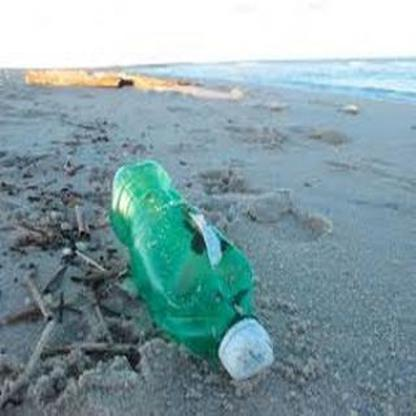plastic bottle: (110, 159, 274, 379)
